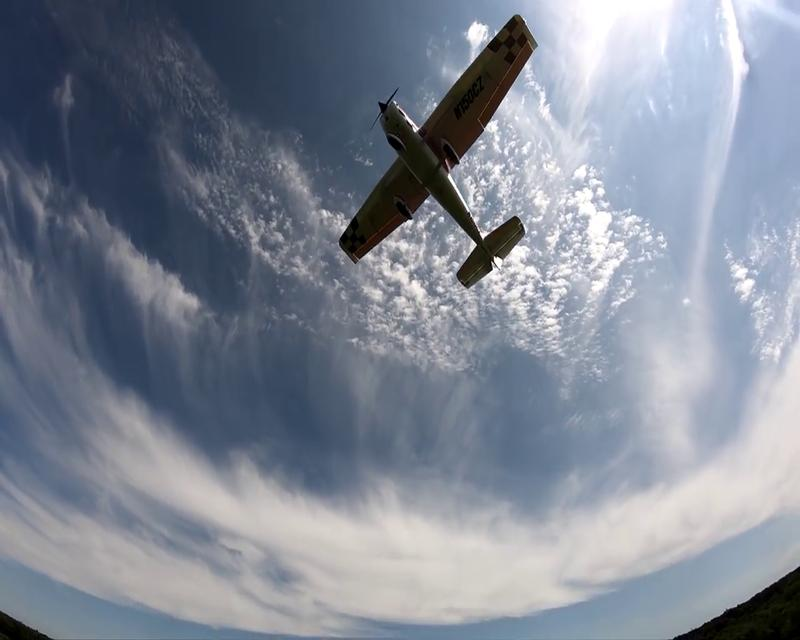UAV: (338, 14, 540, 290)
